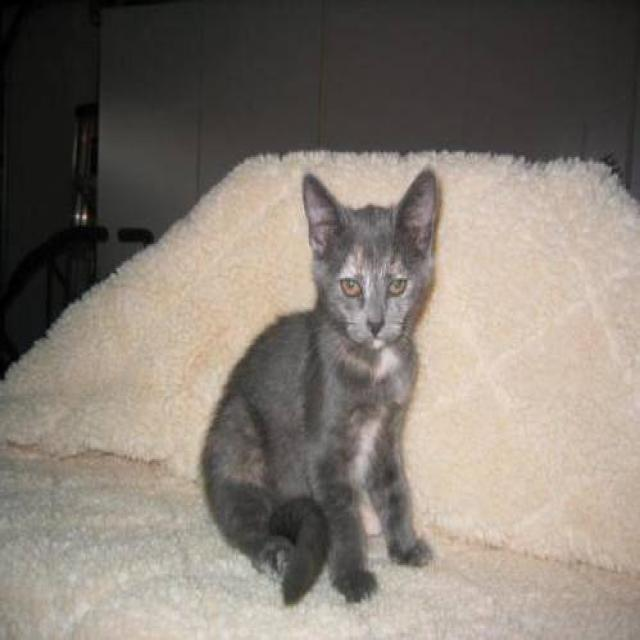cat: (199, 165, 440, 606)
